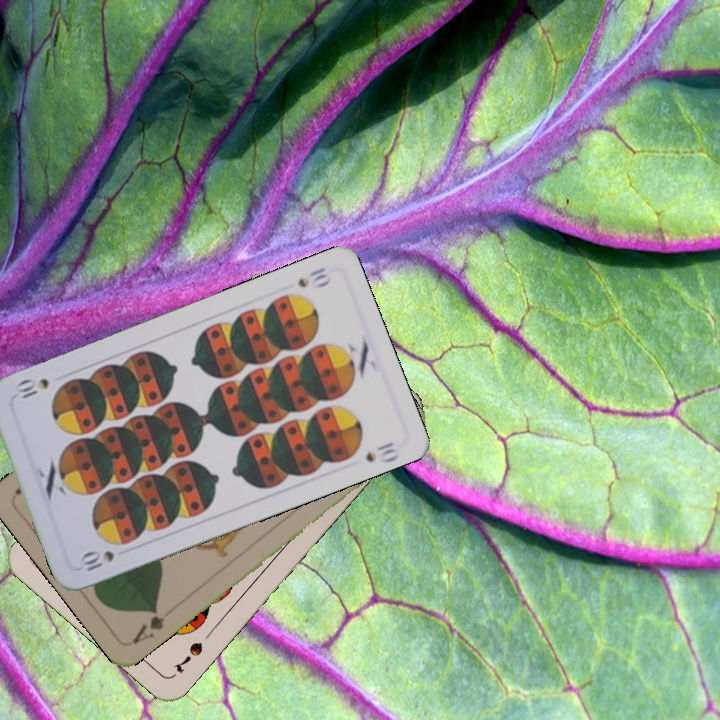GA: (127, 604, 168, 647)
S10: (76, 546, 117, 574), (293, 263, 334, 291)
S7: (170, 637, 206, 676)
